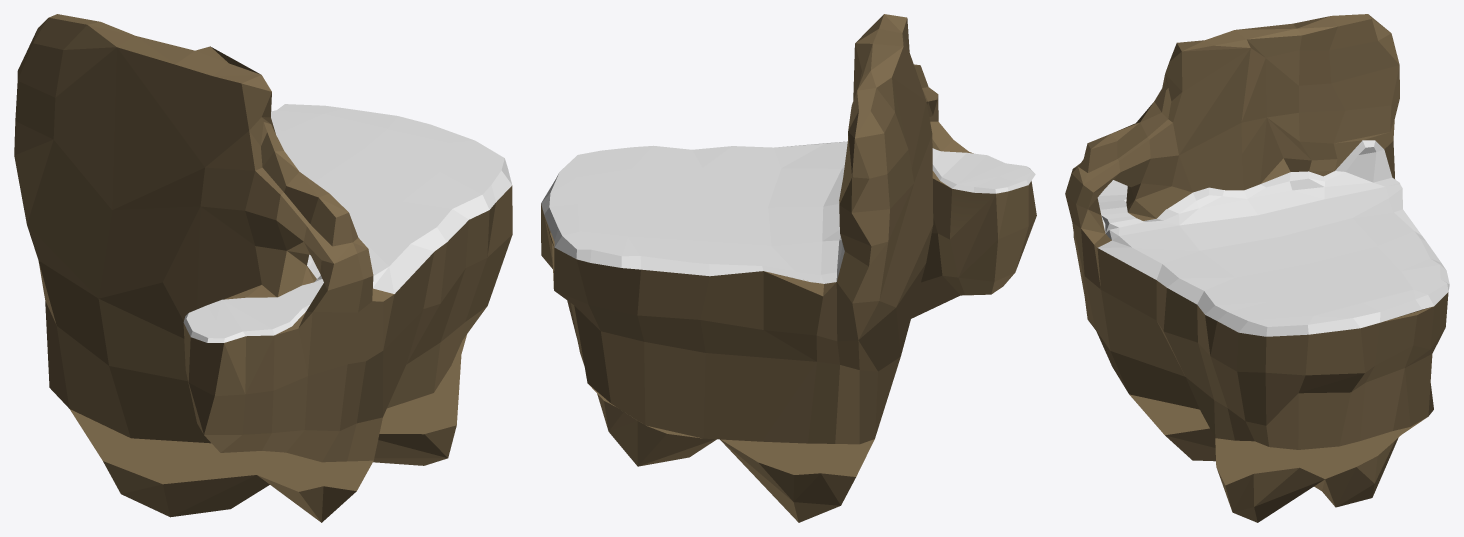
Rendered from LightRockFloorSmallSnowyPlatform1.fbx.
3 views of the same model, side by side, from view 1: azimuth 30°, elevation 25°; view 2: azimuth 150°, elevation 25°; view 3: azimuth 270°, elevation 25° (orthographic). The views are drawn at different scales.
Visible parts, largest first — view 1: LightRockFloorSmallSnowyPlatform1; view 2: LightRockFloorSmallSnowyPlatform1; view 3: LightRockFloorSmallSnowyPlatform1.
Part boxes in pixels (left/top/right/bottom): LightRockFloorSmallSnowyPlatform1: left=14, top=14, right=512, bottom=522; LightRockFloorSmallSnowyPlatform1: left=541, top=14, right=1036, bottom=522; LightRockFloorSmallSnowyPlatform1: left=1065, top=14, right=1449, bottom=522.
Size of the model in its own units: 2436 by 2804 by 2344.
